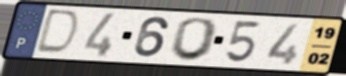4: (81, 11, 119, 59), (264, 23, 301, 66)
5: (225, 19, 263, 64)
6: (132, 15, 171, 59)
D: (32, 8, 82, 57)
O: (167, 17, 221, 63)
